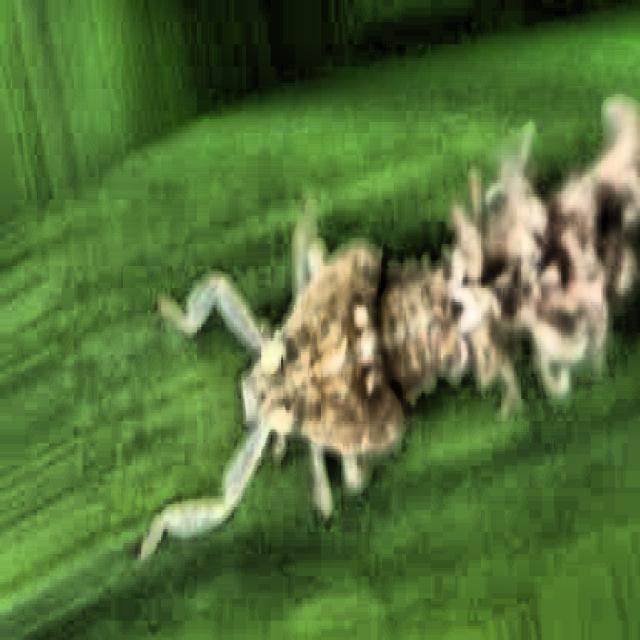Pyrilla-perpusilla: (127, 127, 640, 604)
